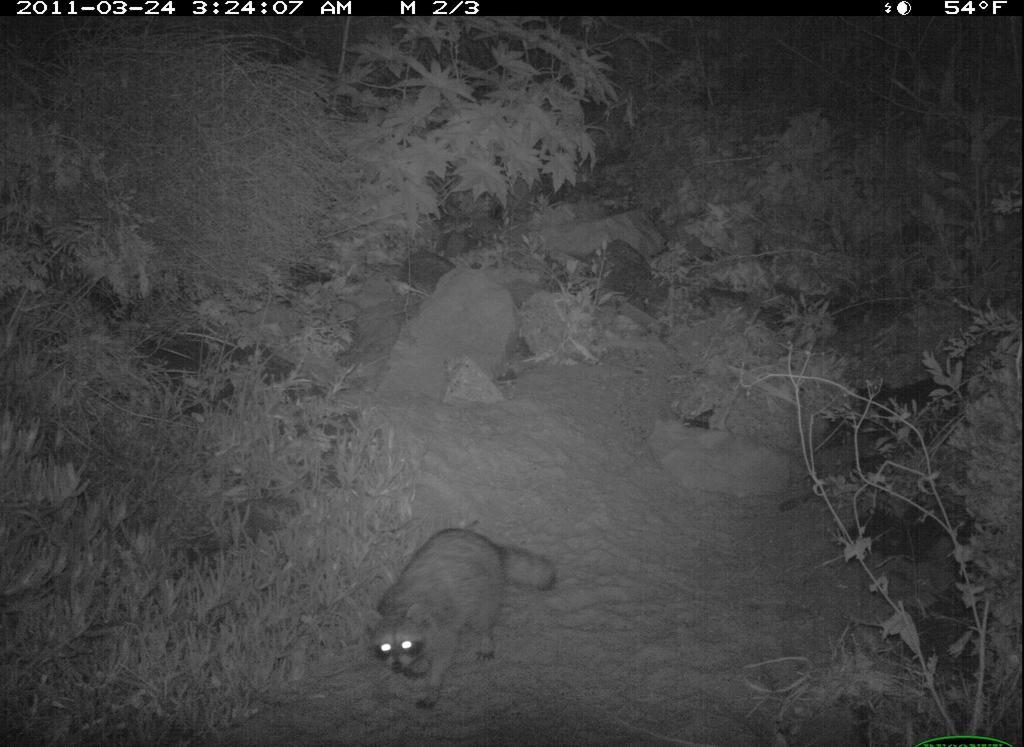raccoon: (364, 516, 566, 699)
